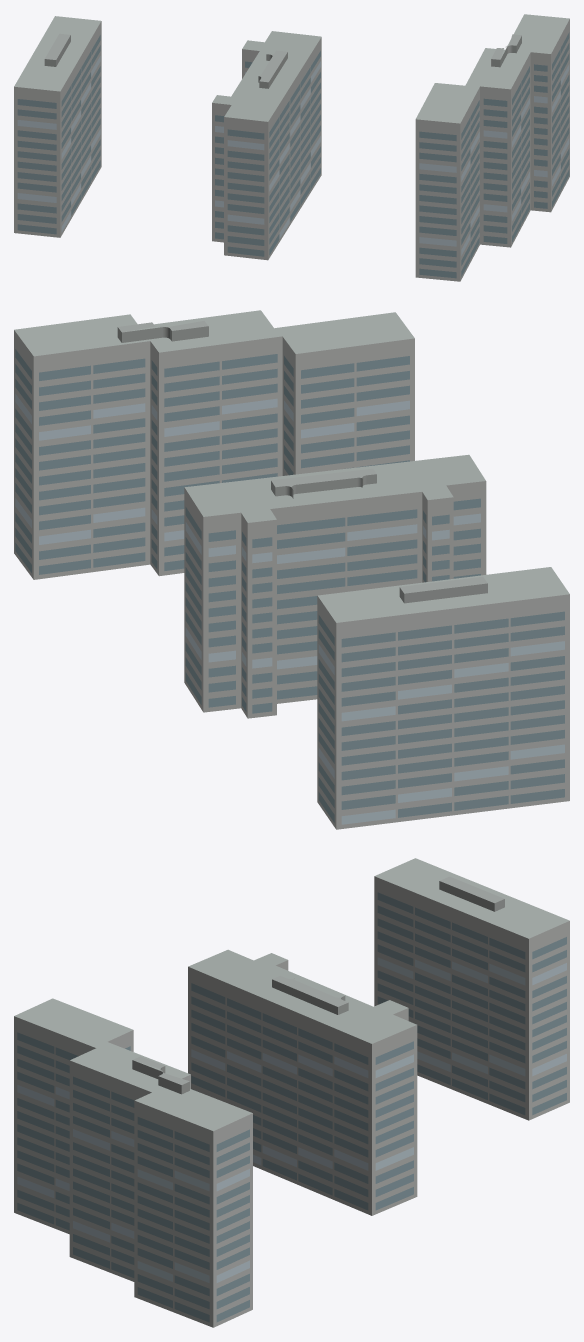
The model's file is apt-a13905301.glb.
The picture shows the model from 3 angles, top to bottom: view 1: azimuth 30°, elevation 25°; view 2: azimuth 150°, elevation 25°; view 3: azimuth 270°, elevation 25°; orthographic projection. The views are drawn at different scales.
Visible parts, largest first — view 1: apt-a13905301; view 2: apt-a13905301; view 3: apt-a13905301.
Boxes of the visible parts, x1,y1,x2,y2 form: apt-a13905301: (14, 14, 569, 281); apt-a13905301: (14, 310, 569, 829); apt-a13905301: (14, 858, 569, 1327).
Bounding box in the file's own units: 120 × 40 × 97.91.
